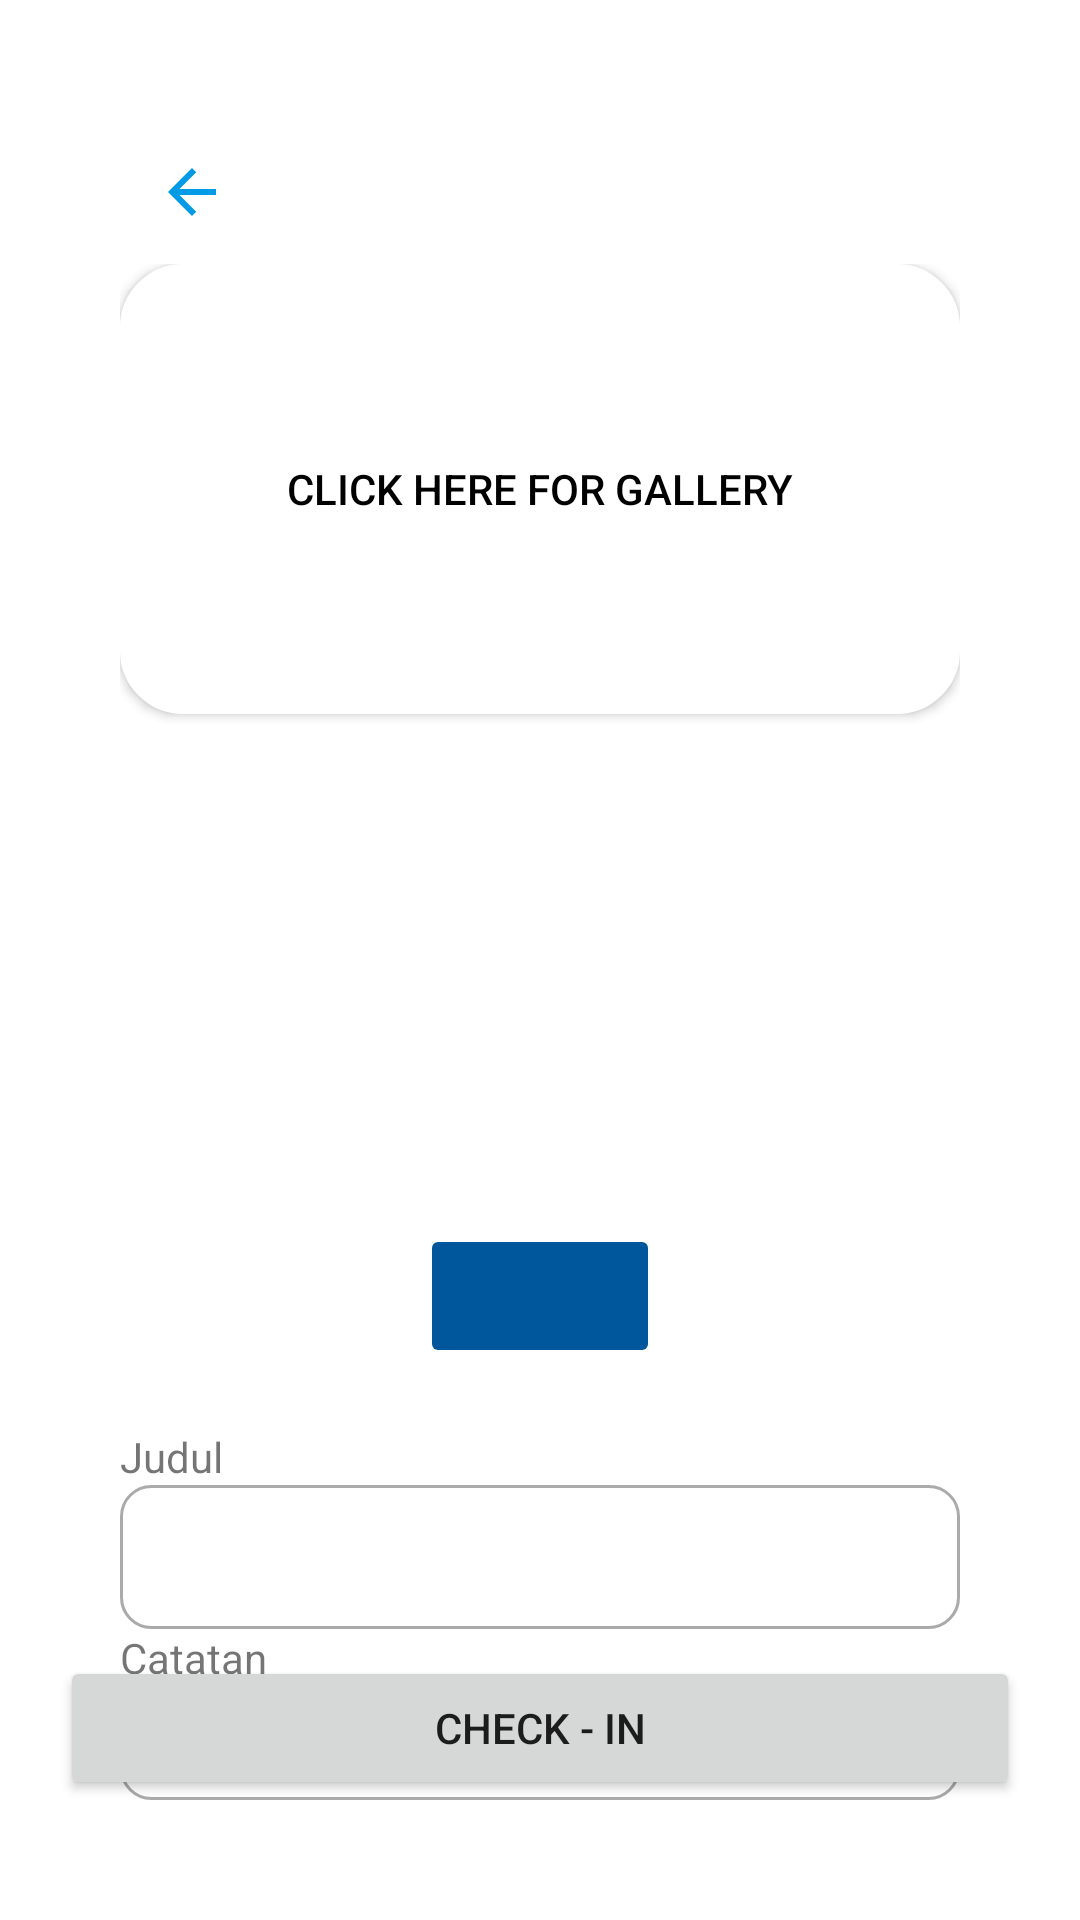

Icon bounding boxes for this 1080w x 1920h phone screenshot, format (x1, y1, x2, y2):
arrow back for frag: (168, 168, 216, 216)
